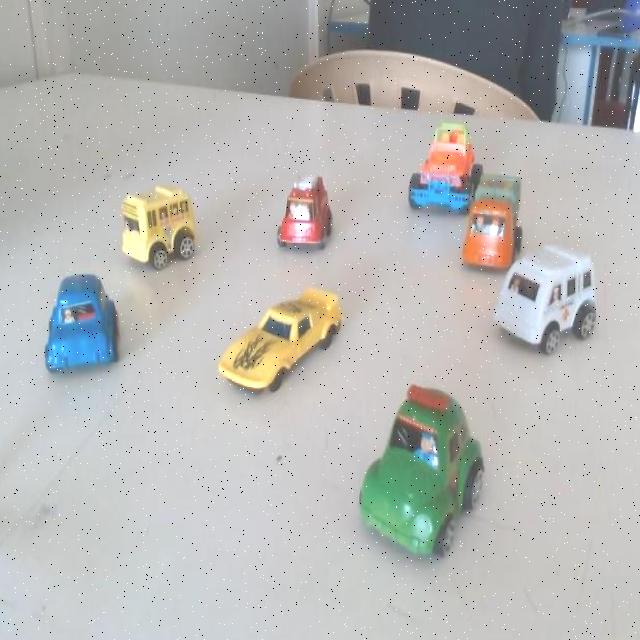car: (351, 386, 498, 562), (215, 281, 347, 402), (492, 232, 601, 366), (40, 272, 121, 378), (396, 112, 477, 214), (123, 184, 206, 278), (460, 165, 526, 280), (274, 162, 346, 265)
